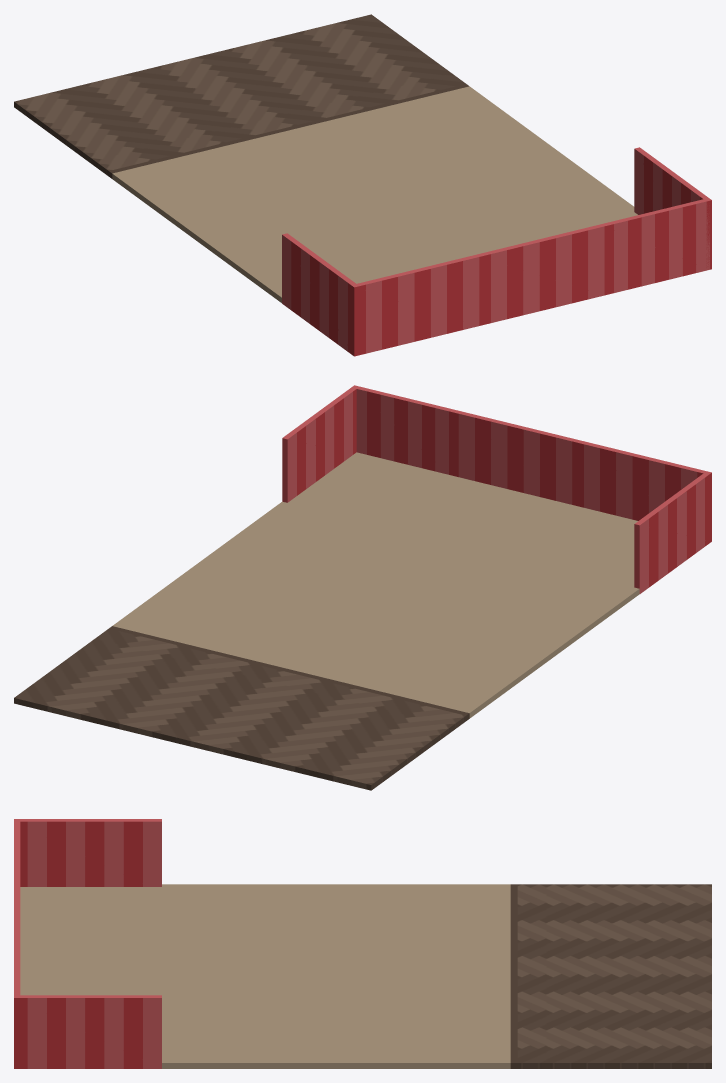
File: Cinema_Map_Floor.fbx
3 renders of one model, top to bottom at view 1: azimuth 30°, elevation 25°; view 2: azimuth 150°, elevation 25°; view 3: azimuth 270°, elevation 25°, orthographic. The views are drawn at different scales.
Visible parts, largest first — view 1: M_Main_Floor_02, M_Main_Floor, M_Wall_03.003, M_Wall_03.004, M_Wall_03.005, M_Wall_03.002, M_Wall_03.001; view 2: M_Main_Floor_02, M_Main_Floor, M_Wall_03.004, M_Wall_03.005, M_Wall_03.003, M_Wall_03.002, M_Wall_03.001; view 3: M_Main_Floor_02, M_Main_Floor, M_Wall_03.001, M_Wall_03.002, M_Wall_03.004, M_Wall_03.003.
Part boxes in pixels (x1=…): M_Main_Floor_02: x1=112, y1=86, x2=637, y2=302; M_Main_Floor: x1=14, y1=14, x2=468, y2=178; M_Wall_03.003: x1=351, y1=254, x2=479, y2=356; M_Wall_03.004: x1=477, y1=224, x2=604, y2=325; M_Wall_03.005: x1=601, y1=198, x2=709, y2=295; M_Wall_03.002: x1=282, y1=233, x2=359, y2=354; M_Wall_03.001: x1=634, y1=147, x2=711, y2=269; M_Main_Floor_02: x1=112, y1=452, x2=639, y2=718; M_Main_Floor: x1=14, y1=626, x2=469, y2=790; M_Wall_03.004: x1=458, y1=411, x2=586, y2=507; M_Wall_03.005: x1=354, y1=386, x2=461, y2=476; M_Wall_03.003: x1=584, y1=442, x2=710, y2=543; M_Wall_03.002: x1=634, y1=471, x2=711, y2=593; M_Wall_03.001: x1=282, y1=385, x2=359, y2=502; M_Main_Floor_02: x1=20, y1=884, x2=510, y2=1068; M_Main_Floor: x1=510, y1=884, x2=711, y2=1068; M_Wall_03.001: x1=14, y1=995, x2=161, y2=1068; M_Wall_03.002: x1=14, y1=819, x2=161, y2=886; M_Wall_03.004: x1=14, y1=881, x2=20, y2=944; M_Wall_03.003: x1=14, y1=819, x2=20, y2=881.
Bounding box in the file's own units: 40.03 × 7.39 × 66.
